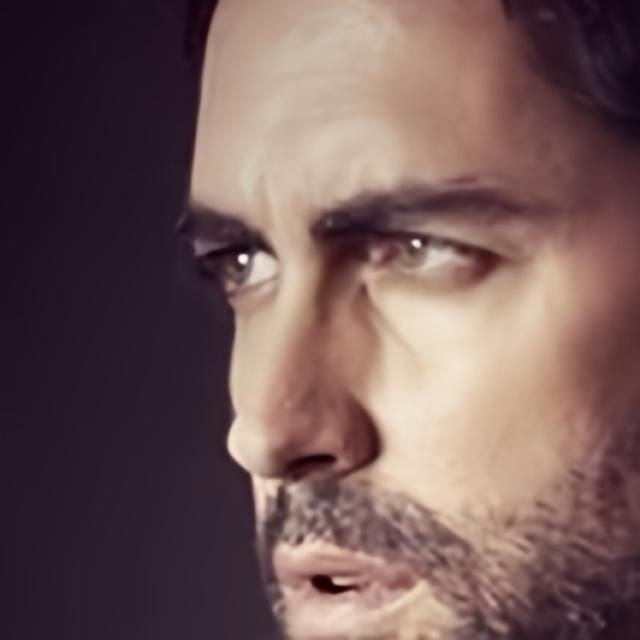anger: (166, 8, 640, 638)
